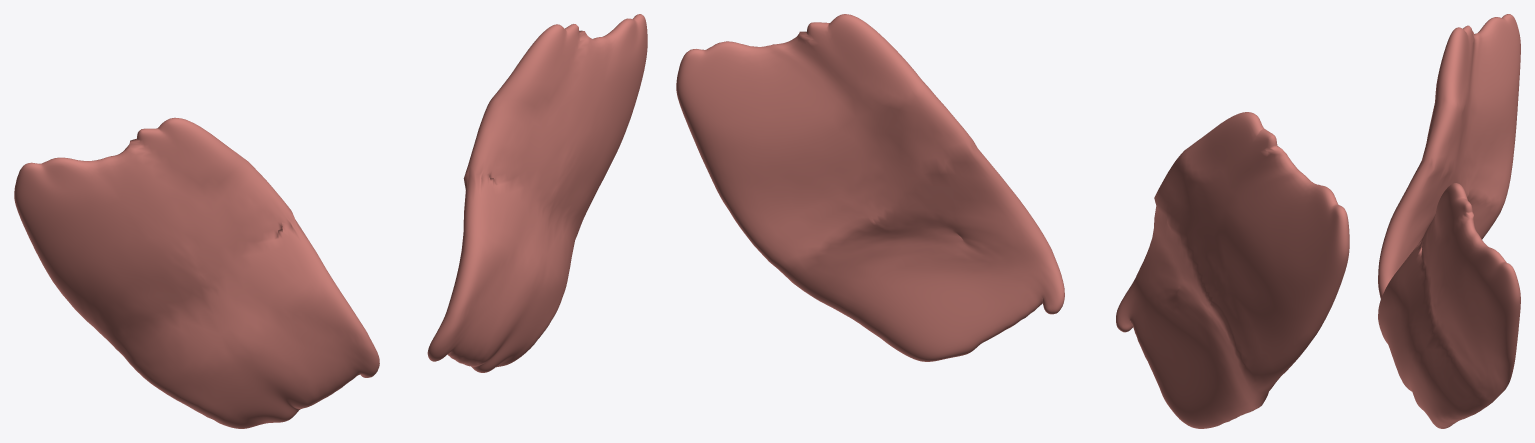
File: mentalis.glb
3 renders of one model, left to right at view 1: azimuth 30°, elevation 25°; view 2: azimuth 150°, elevation 25°; view 3: azimuth 270°, elevation 25°, orthographic. The views are drawn at different scales.
Visible parts, largest first — view 1: mentalis_R, mentalis_L; view 2: mentalis_L, mentalis_R; view 3: mentalis_L, mentalis_R.
Boxes of the visible parts, x1,y1,x2,y2 form: mentalis_R: (14,117,379,428); mentalis_L: (427,14,647,372); mentalis_L: (676,14,1064,361); mentalis_R: (1116,112,1349,428); mentalis_L: (1378,183,1520,428); mentalis_R: (1378,14,1520,298).
Bounding box in the file's own units: 0.03 × 0.0144 × 0.007.
